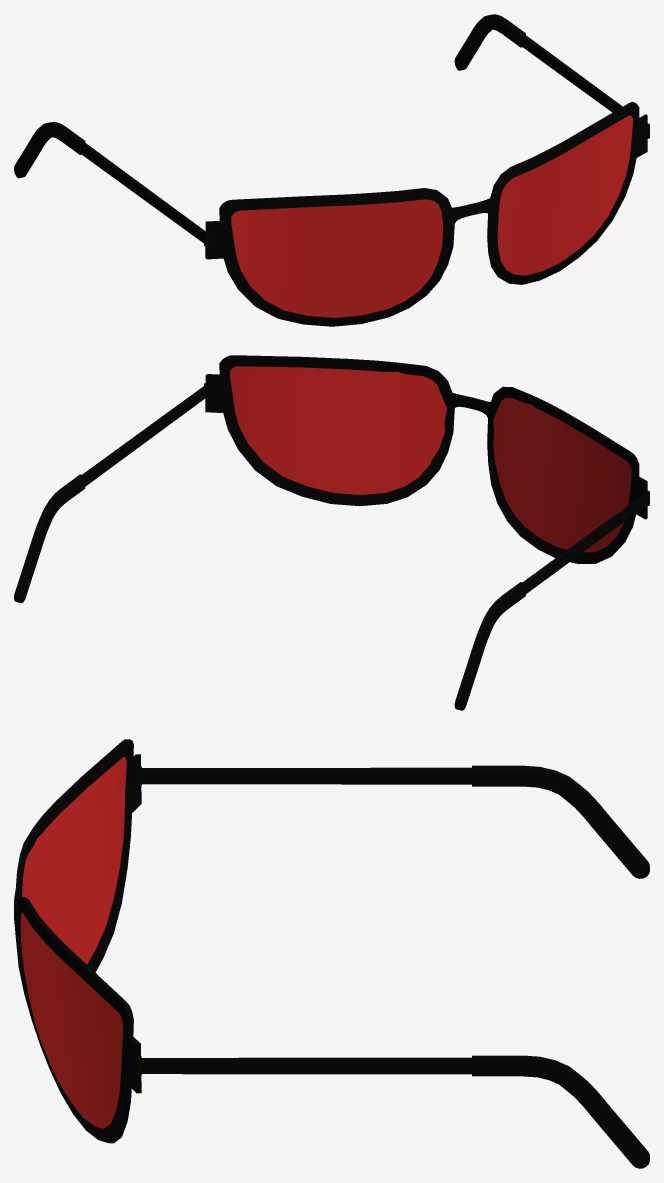
File: glasses-14.glb
3 views of the same model, one above another, from view 1: azimuth 30°, elevation 25°; view 2: azimuth 150°, elevation 25°; view 3: azimuth 270°, elevation 25° (orthographic). The views are drawn at different scales.
Parts seen in each view (by area): view 1: glasses11.001; view 2: glasses11.001; view 3: glasses11.001.
Boxes of the visible parts, x1,y1,x2,y2 form: glasses11.001: (14,14,649,326); glasses11.001: (14,355,649,710); glasses11.001: (14,739,649,1168).
Size of the model in its own units: 2.02 by 0.594 by 1.85.
